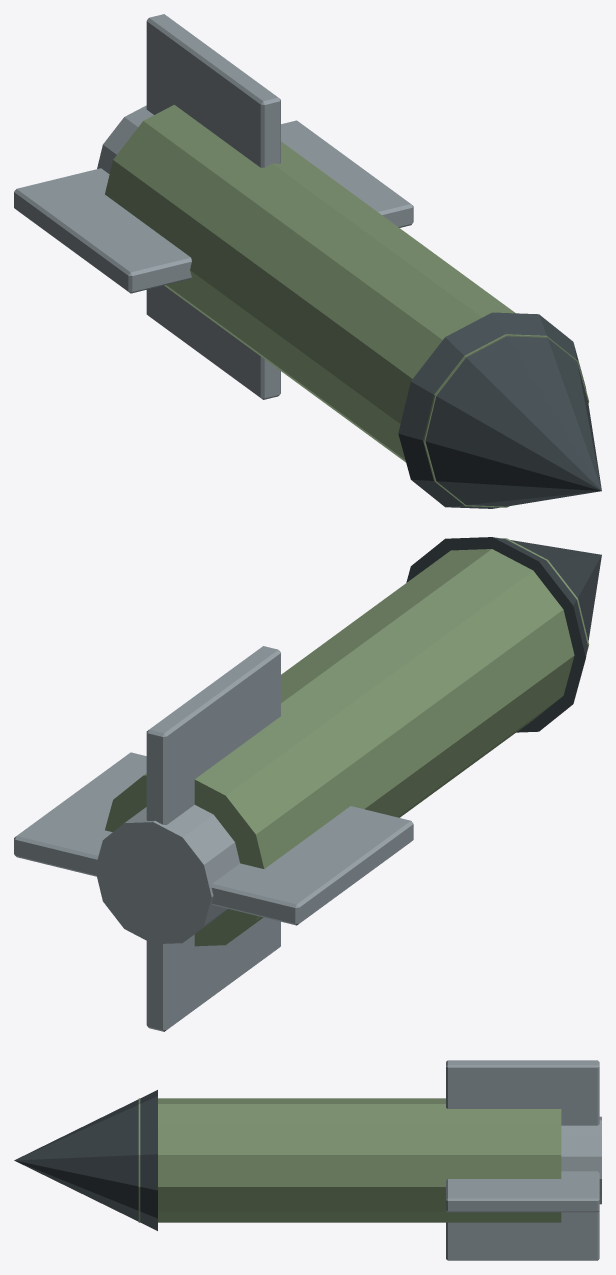
File: rocket.glb
3 views of the same model, one above another, from view 1: azimuth 30°, elevation 25°; view 2: azimuth 150°, elevation 25°; view 3: azimuth 270°, elevation 25° (orthographic). The views are drawn at different scales.
Parts seen in each view (by area): view 1: Rocket body, Warhead nose, Stabilizer upright.001, Stabilizer side, Stabilizer upright, Stabilizer side.001, Tail motor; view 2: Rocket body, Tail motor, Stabilizer upright.001, Stabilizer side, Stabilizer upright, Warhead nose, Stabilizer side.001; view 3: Rocket body, Warhead nose, Stabilizer upright.001, Stabilizer upright, Stabilizer side.001, Tail motor.
Part boxes in pixels (x1,y1,x2,y2): Rocket body: [105, 104, 589, 507]; Warhead nose: [398, 312, 601, 508]; Stabilizer upright.001: [146, 14, 280, 167]; Stabilizer side: [14, 168, 191, 293]; Stabilizer upright: [146, 285, 280, 399]; Stabilizer side.001: [281, 120, 413, 227]; Tail motor: [97, 105, 153, 173]; Rocket body: [105, 538, 589, 946]; Tail motor: [95, 804, 239, 944]; Stabilizer upright.001: [146, 646, 280, 824]; Stabilizer side: [211, 806, 413, 925]; Stabilizer upright: [146, 917, 280, 1031]; Warhead nose: [406, 537, 601, 732]; Stabilizer side.001: [14, 752, 146, 876]; Rocket body: [138, 1098, 561, 1222]; Warhead nose: [14, 1090, 157, 1230]; Stabilizer upright.001: [446, 1060, 599, 1125]; Stabilizer upright: [446, 1211, 599, 1260]; Stabilizer side.001: [446, 1171, 599, 1212]; Tail motor: [561, 1116, 601, 1204].
Bounding box in the file's own units: 0.225 × 0.225 × 0.6125.
